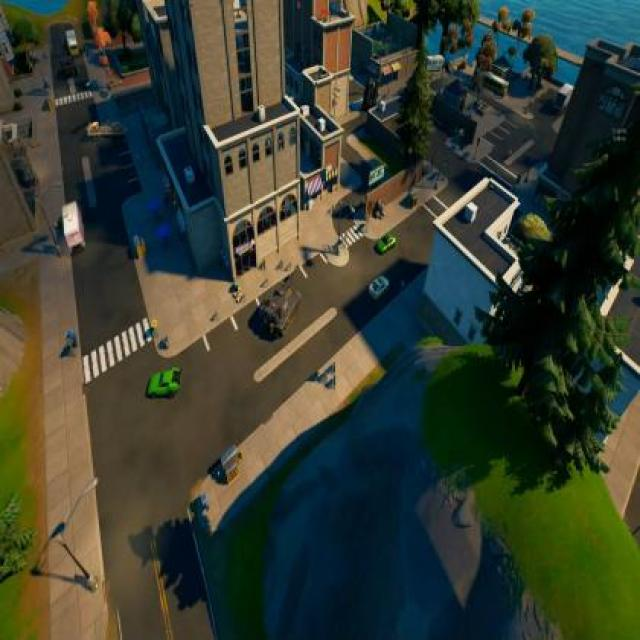tank: (257, 264, 302, 339), (362, 74, 380, 112), (58, 55, 78, 81)
